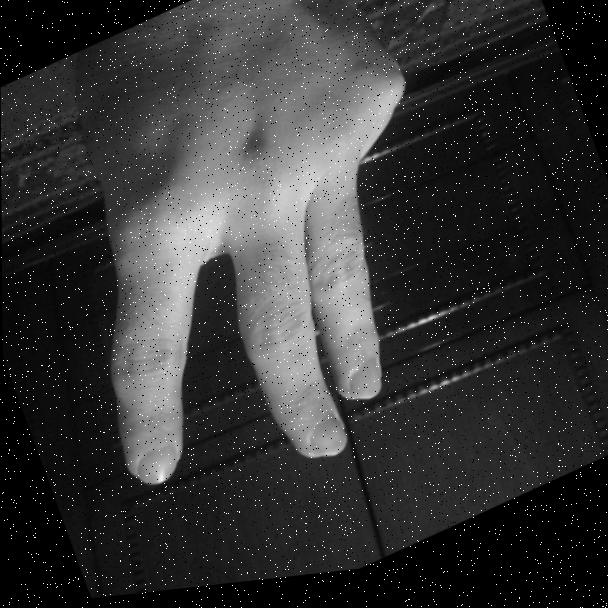five: (0, 0, 505, 556)
